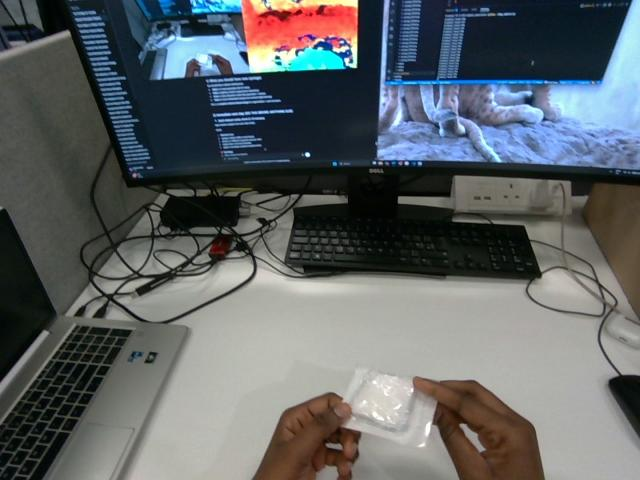gauze: (344, 367, 436, 446)
